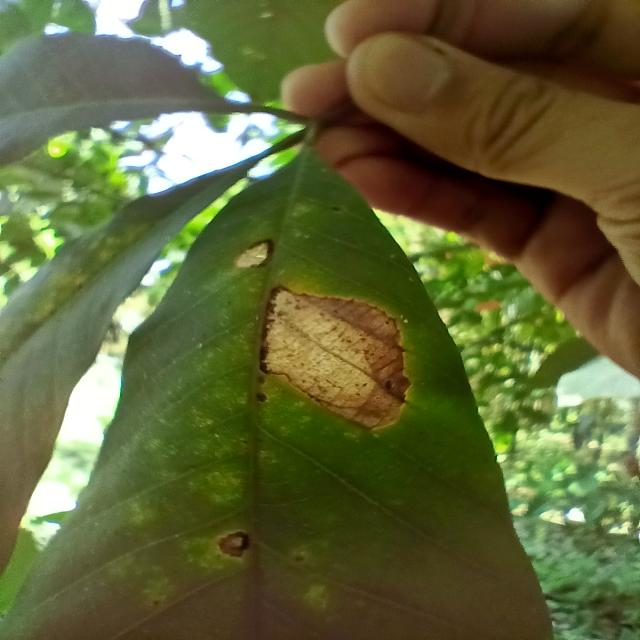Leaf-Blight: (267, 290, 410, 430), (235, 243, 267, 267)
